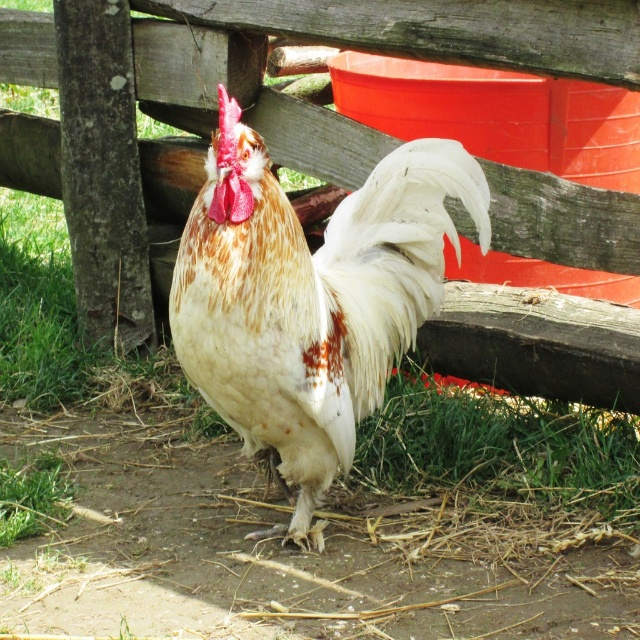Chicken: (162, 80, 488, 543)
